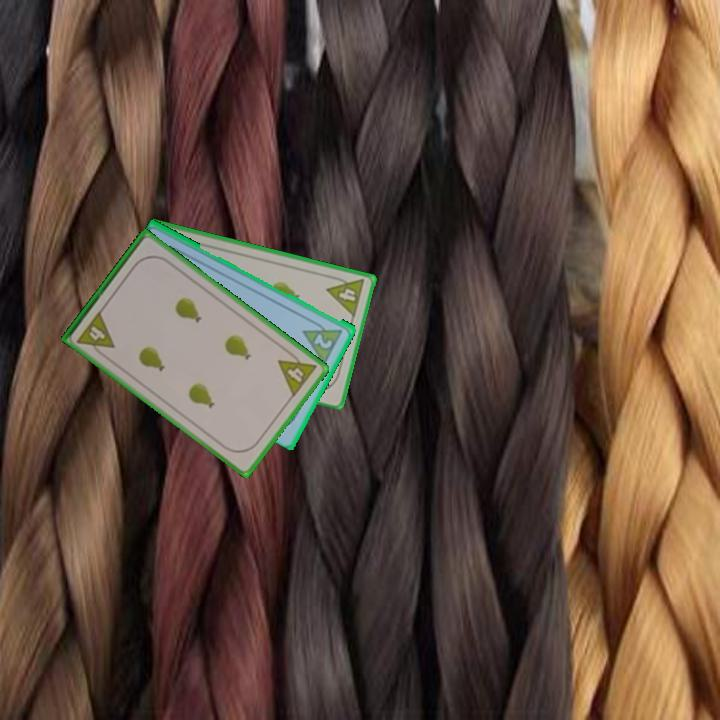2p: (311, 330, 336, 352)
4p: (274, 346, 320, 400), (73, 307, 118, 360), (323, 271, 368, 320)
